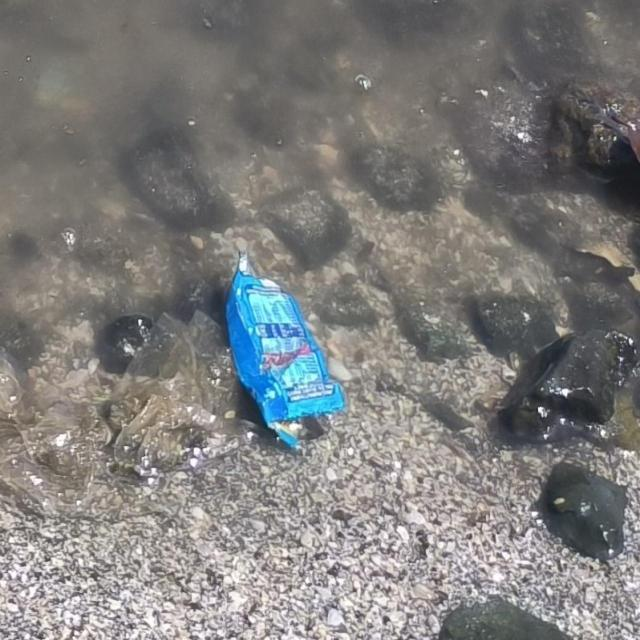plastic_waste: (228, 251, 346, 451)
